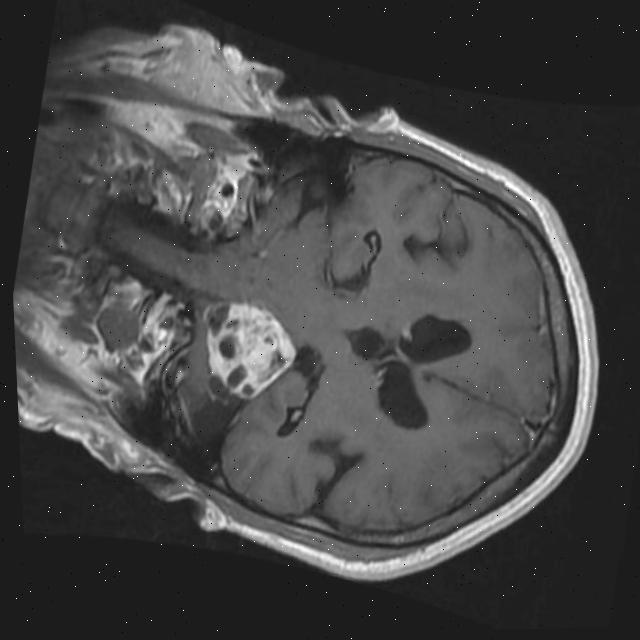Meningioma: (189, 293, 307, 410)
